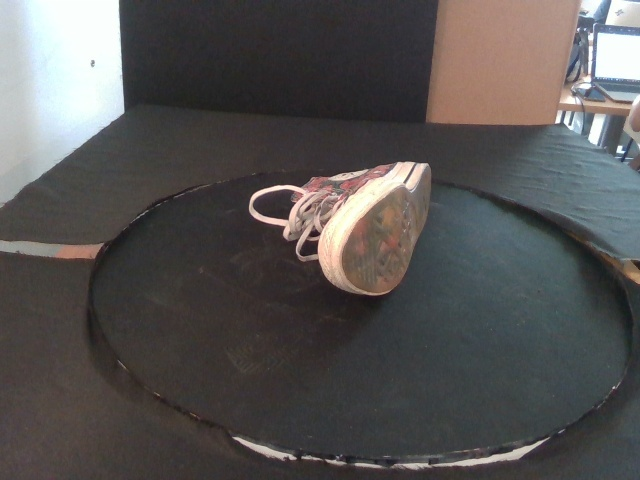shoe: (290, 160, 432, 296)
